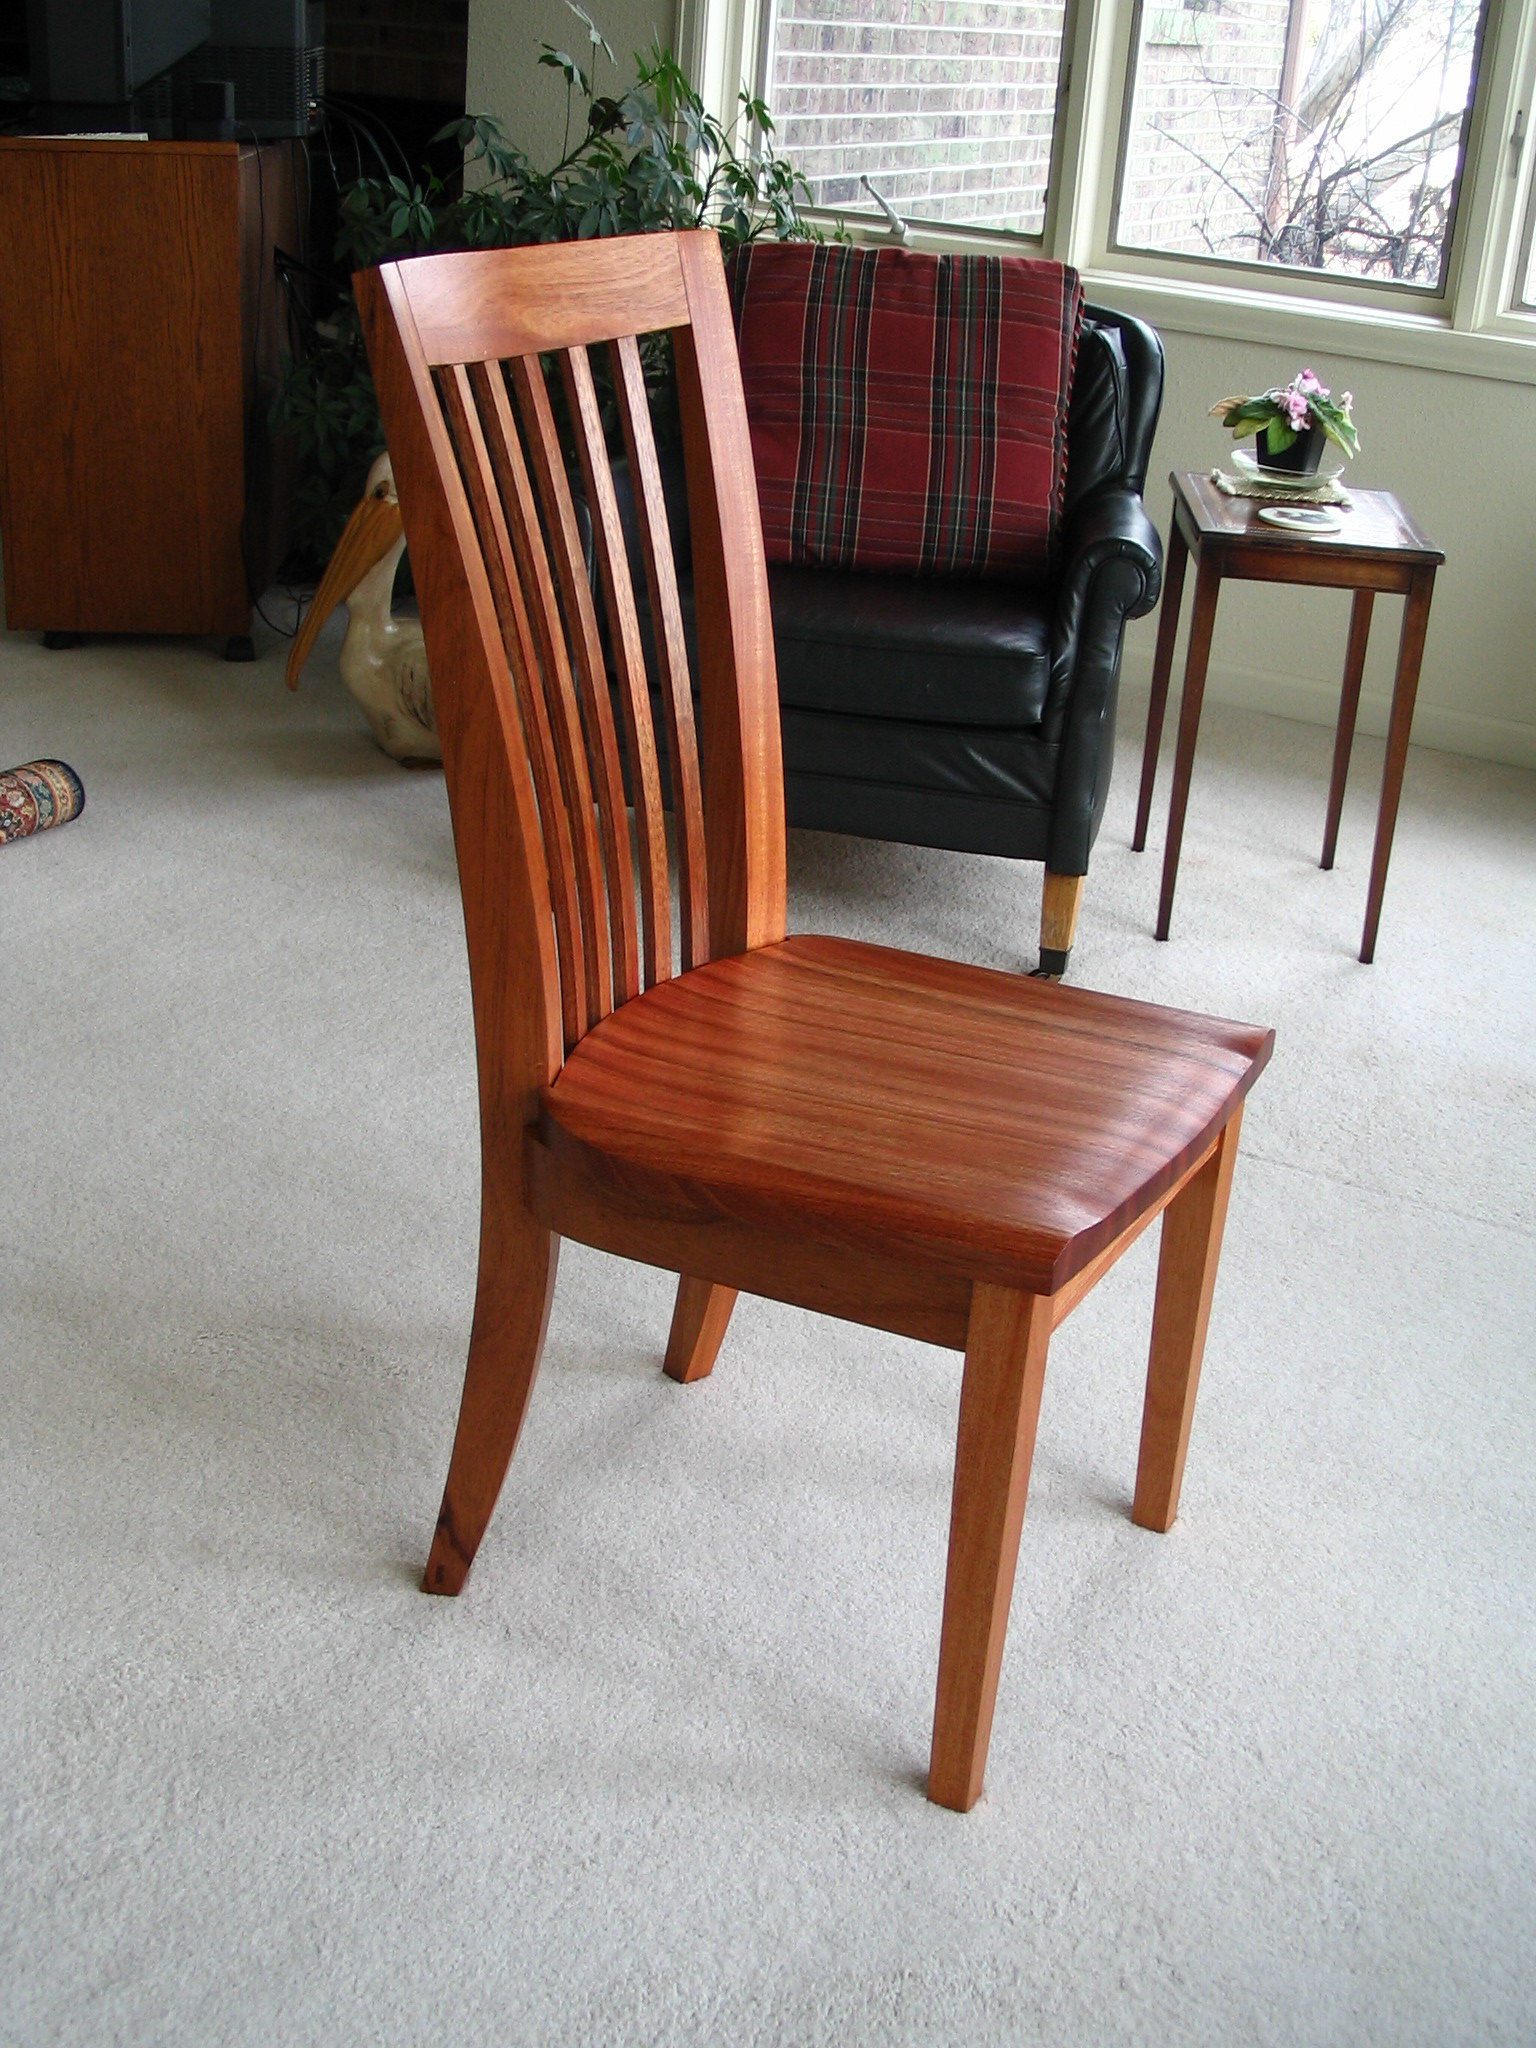chair: (237, 181, 1331, 1838), (557, 231, 1208, 900)
